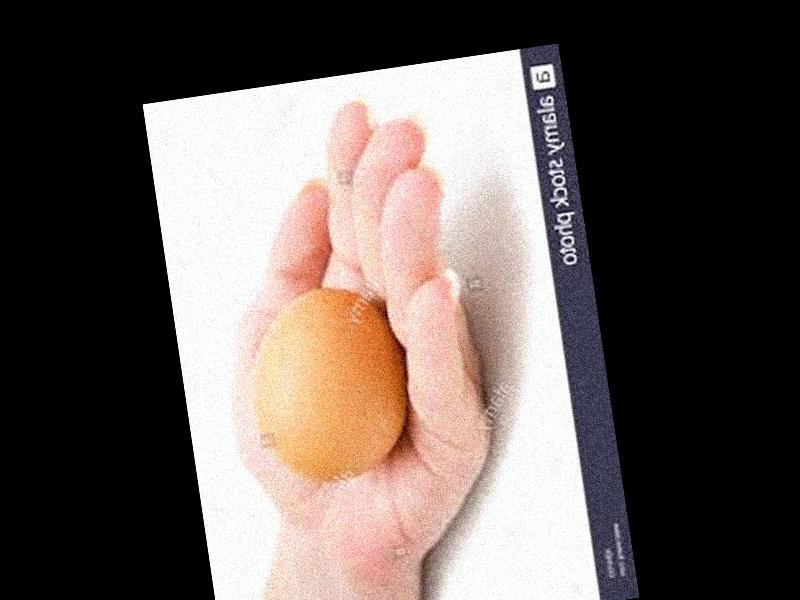Eggs: (236, 280, 417, 493)
